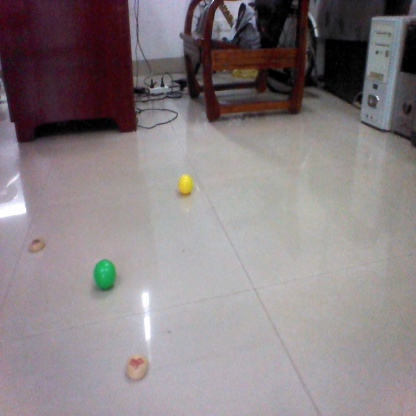ball: (91, 257, 115, 290), (173, 174, 196, 196)
chess: (121, 353, 151, 381), (24, 236, 47, 256)
